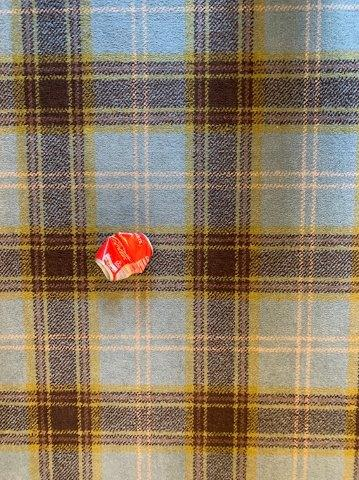kaleng: (95, 232, 153, 282)
